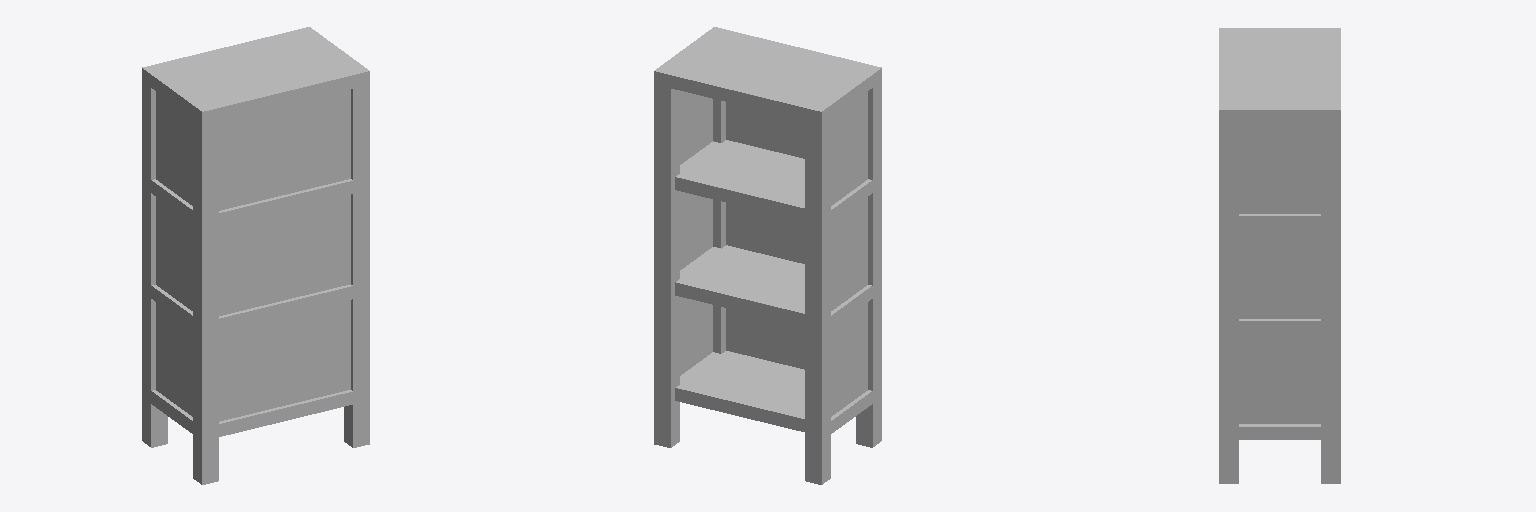
The model's file is coffee shelf.obj.
The picture shows the model from 3 angles: view 1: azimuth 30°, elevation 25°; view 2: azimuth 150°, elevation 25°; view 3: azimuth 270°, elevation 25°; orthographic projection.
Parts seen in each view (by area): view 1: bookcaseClosed; view 2: bookcaseClosed; view 3: bookcaseClosed.
Boxes of the visible parts, <box> form: bookcaseClosed: <box>142,27,369,484</box>; bookcaseClosed: <box>654,27,881,484</box>; bookcaseClosed: <box>1219,28,1340,483</box>.
Bounding box in the file's own units: 0.4 × 0.85 × 0.25.